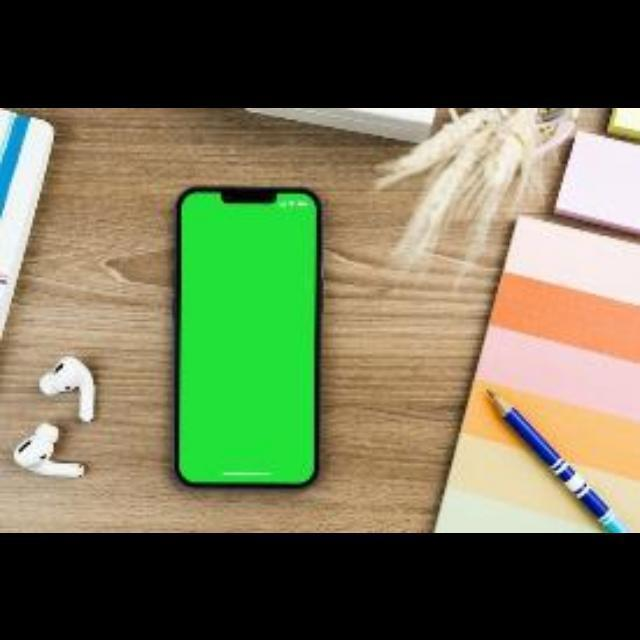phone: (174, 189, 322, 487)
